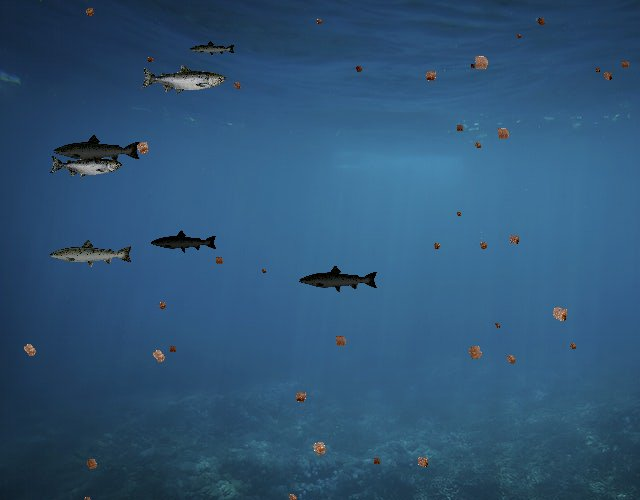Fish: (53, 133, 143, 166), (48, 238, 134, 269), (140, 64, 226, 95), (298, 264, 379, 293), (49, 152, 122, 179), (150, 229, 218, 254), (189, 41, 236, 58)
Pellet: (467, 49, 495, 77), (491, 121, 515, 145), (501, 349, 521, 369), (229, 78, 245, 94), (369, 454, 384, 468), (313, 15, 326, 28), (454, 208, 464, 218)
